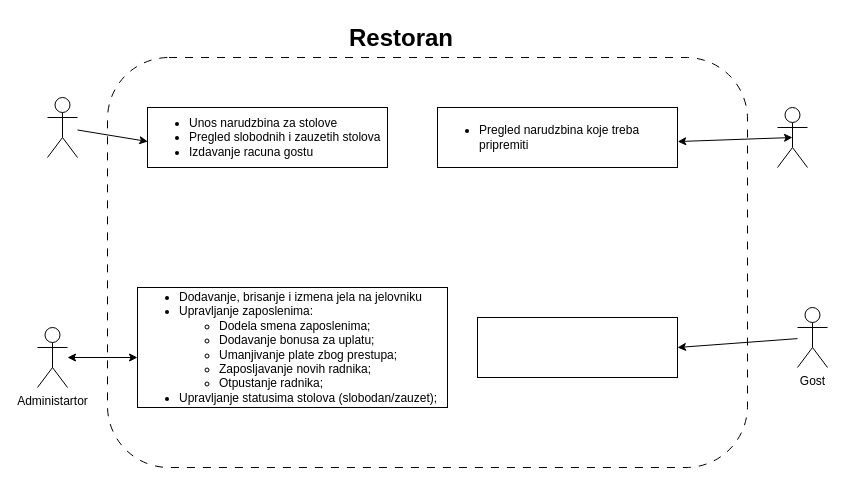
The diagram is 845 pixels wide and 485 high, and some of its shapes have lost their labels. The box of each missing label's shape, as (x1, y1, x2, y2) in pixels:
konobar: (46, 96, 78, 158)
kuvar: (776, 106, 808, 168)
Narucivanje jela i pica; Prijem racuna; Upisivanje u knjigu utisaka;: (476, 316, 678, 378)
